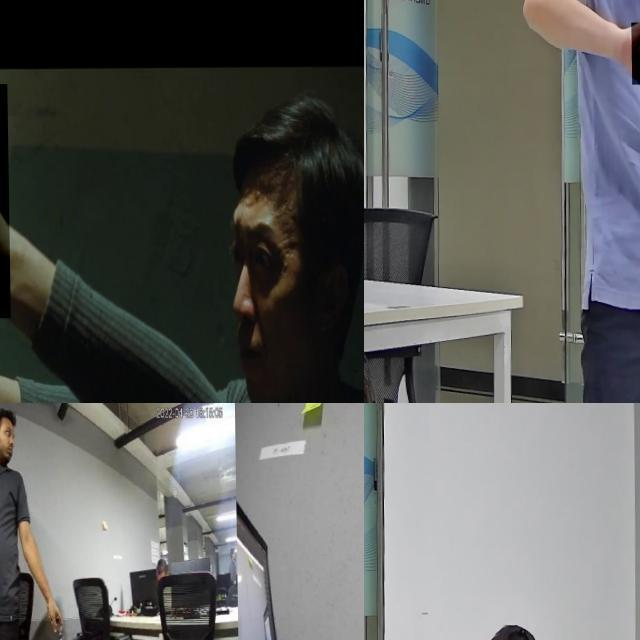-: (23, 403, 51, 434), (51, 628, 74, 640)
gun-knife-thesis - v11 Yolov5 augmented: (0, 84, 103, 319), (0, 274, 72, 403)
